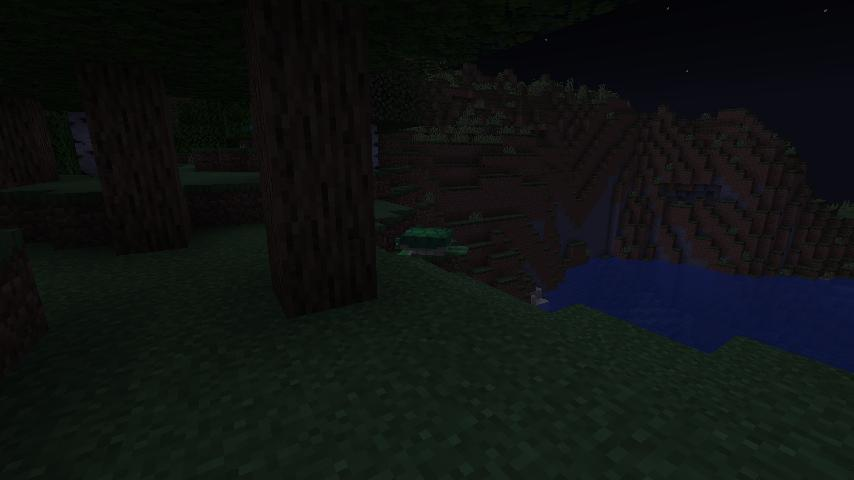turtle: (392, 222, 470, 263)
